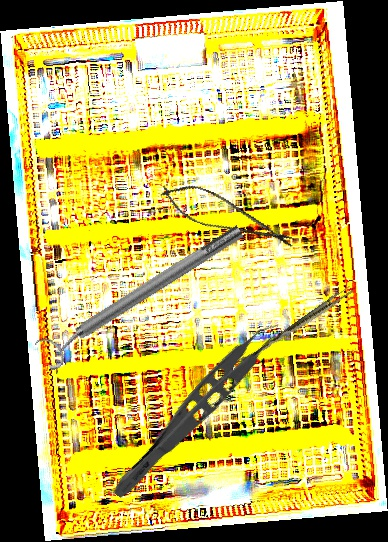Fixation Ring: (32, 215, 252, 374)
Micro Scissor: (153, 174, 302, 258)
Tissue Forceps: (108, 311, 291, 514), (239, 283, 355, 368)
